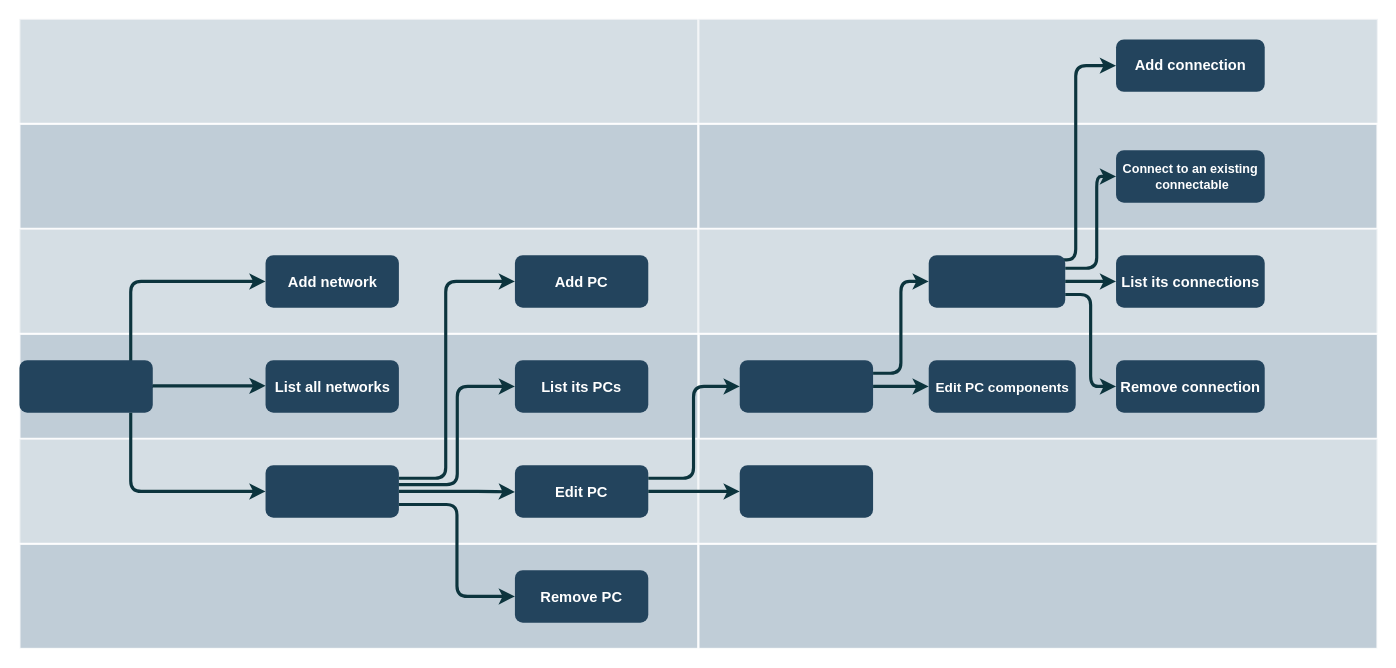
Image size: 1396x668. Some labels were removed from this diagram. The centre of each missing label's shape, as x and y in pixels:
"Edit connections" belongs at [996,281].
"Edit Hardware" belongs at [806,386].
"Edit network" belongs at [331,491].
"Edit Software" belongs at [806,491].
"Network menu" belongs at [85,386].
